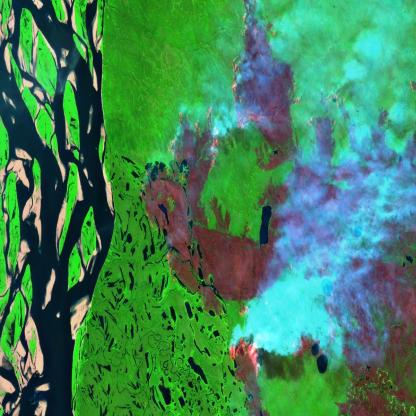fire: (228, 0, 302, 139), (224, 320, 329, 392), (165, 102, 223, 184), (305, 81, 352, 148)
